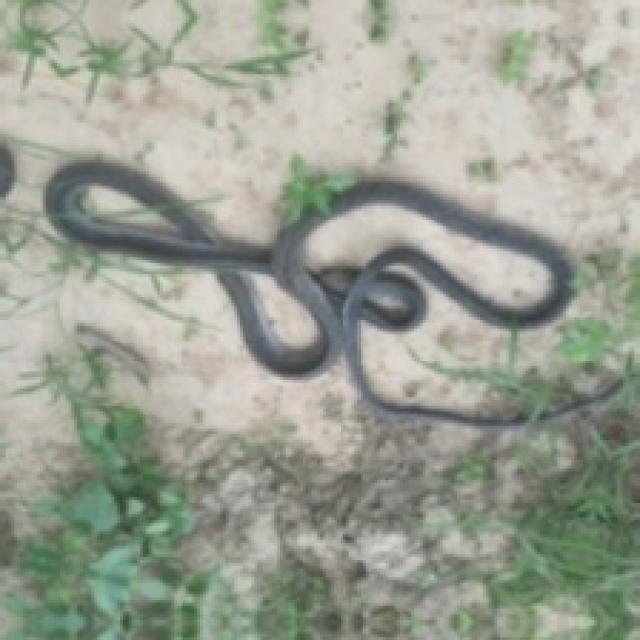king cobra: (0, 134, 620, 423), (46, 160, 571, 423), (303, 203, 549, 306)
